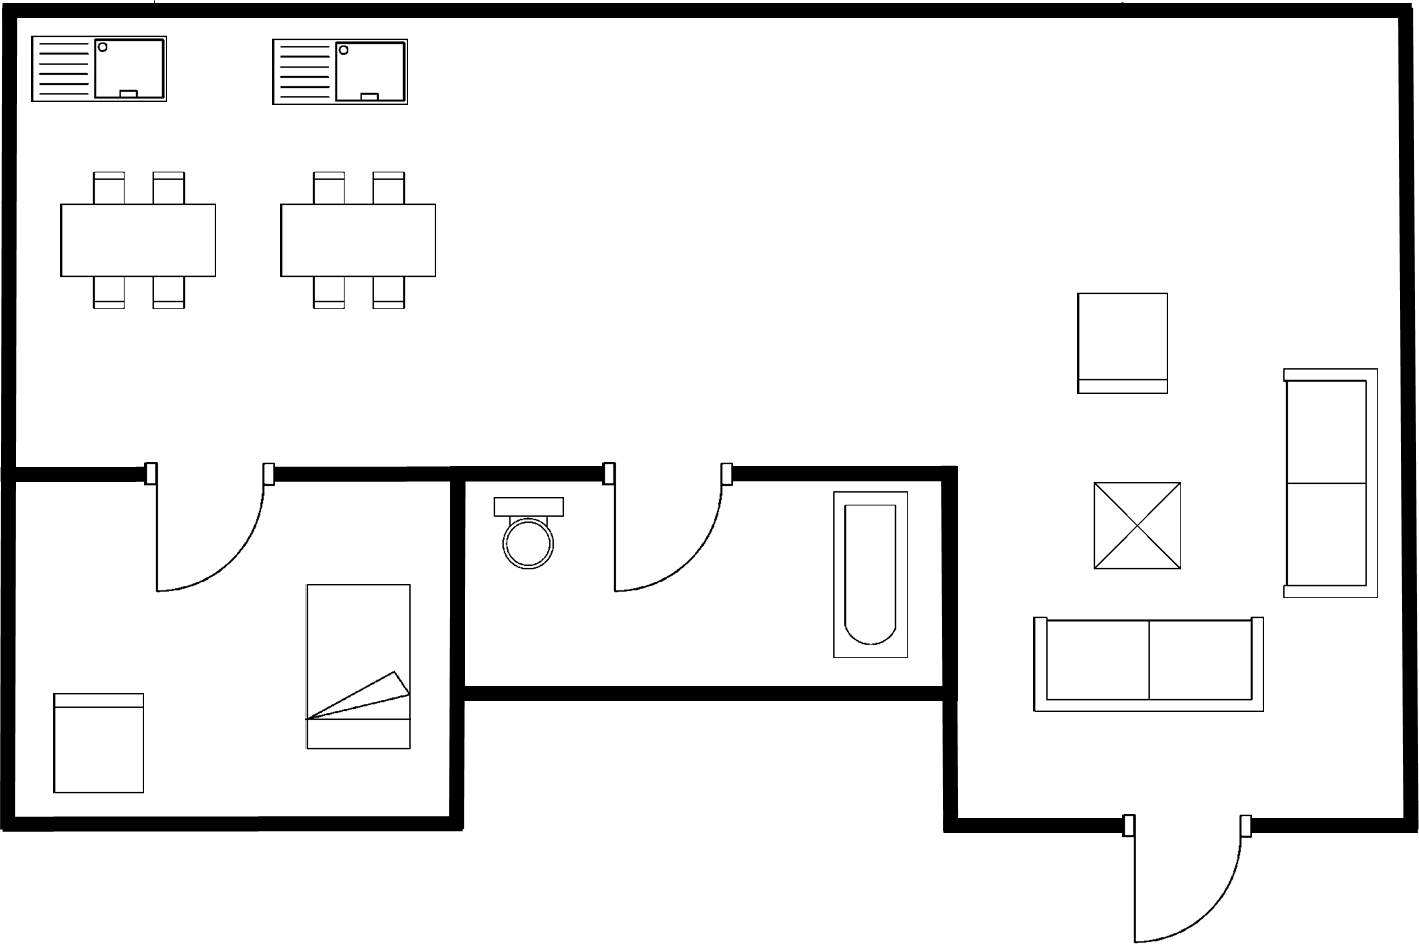bed: (300, 580, 417, 755)
coffee_table: (1089, 477, 1186, 576)
dining_table: (276, 166, 443, 316), (56, 166, 221, 314)
large_sink: (489, 493, 570, 575)
large_sofa: (1026, 613, 1269, 716), (1280, 363, 1384, 603)
sink: (266, 33, 413, 112), (27, 31, 171, 106)
small_sofa: (47, 686, 151, 798), (1072, 288, 1173, 399)
tub: (829, 487, 912, 663)
